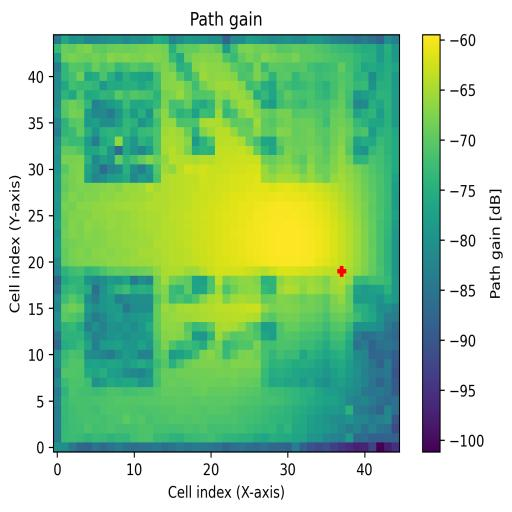Concrete: (262, 62, 338, 183)
Glass: (85, 62, 162, 182)
Metal: (261, 276, 331, 389)
Wood: (84, 266, 161, 388)
